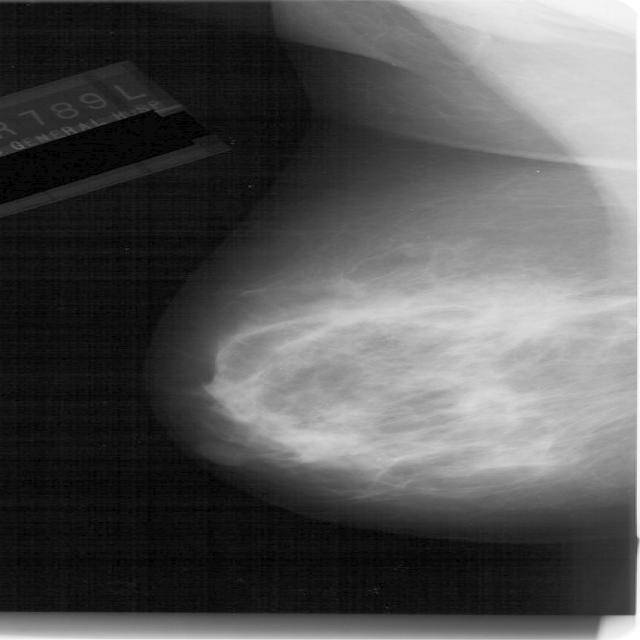tumour: (476, 304, 558, 332)
